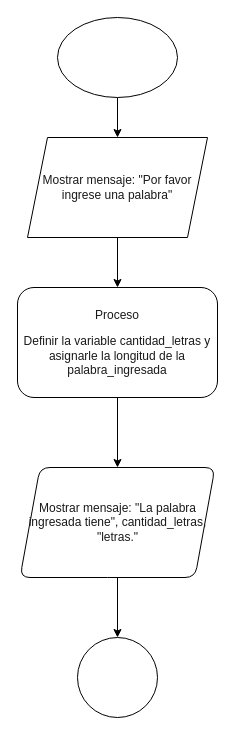
The diagram is 235 pixels wide and 735 high, and some of its shapes have lost their labels. Each missing label, with the centre of its shape:
"Fin" belongs at (x=117, y=677).
"INICIO" belongs at (x=117, y=57).
